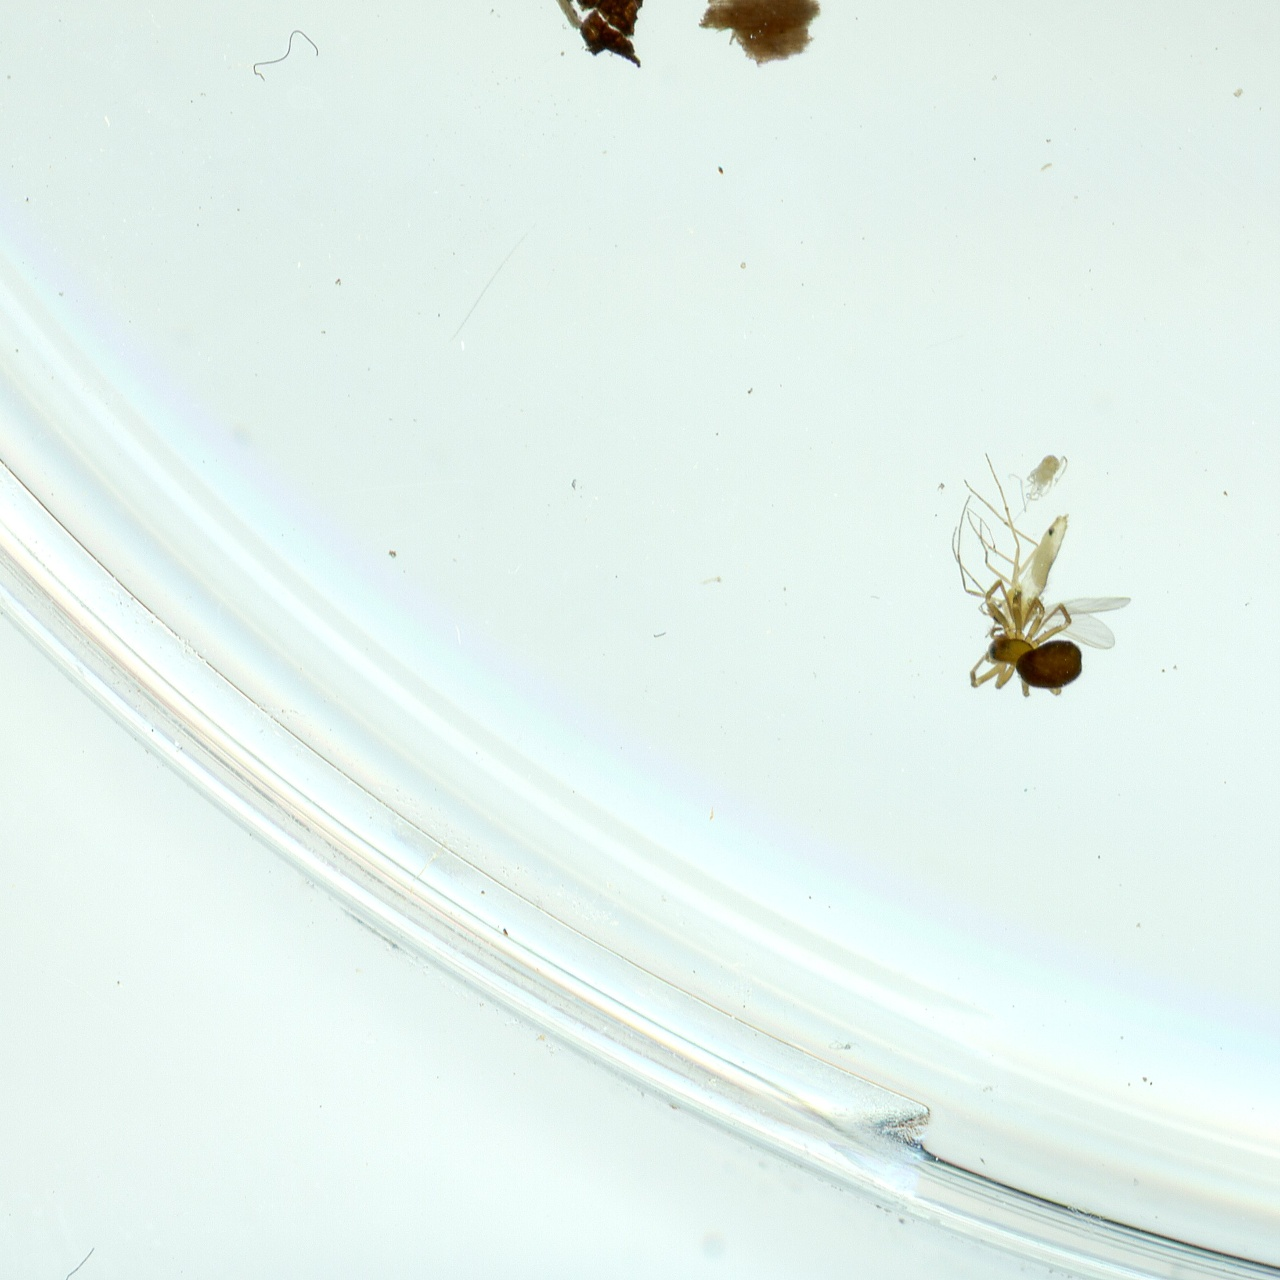arthropod: (901, 440, 1166, 695), (944, 570, 1107, 729), (986, 434, 1081, 533)
